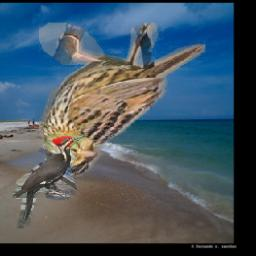Sparrow: (40, 24, 206, 178)
Woodpecker: (14, 134, 87, 228)
